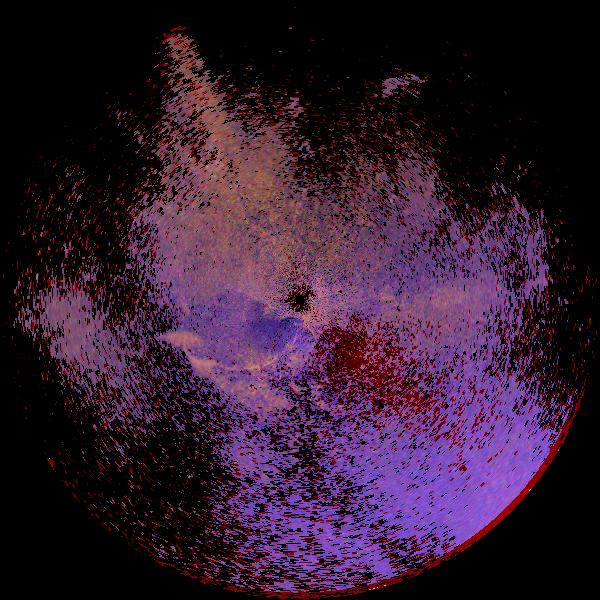roost: (122, 314, 230, 422)
